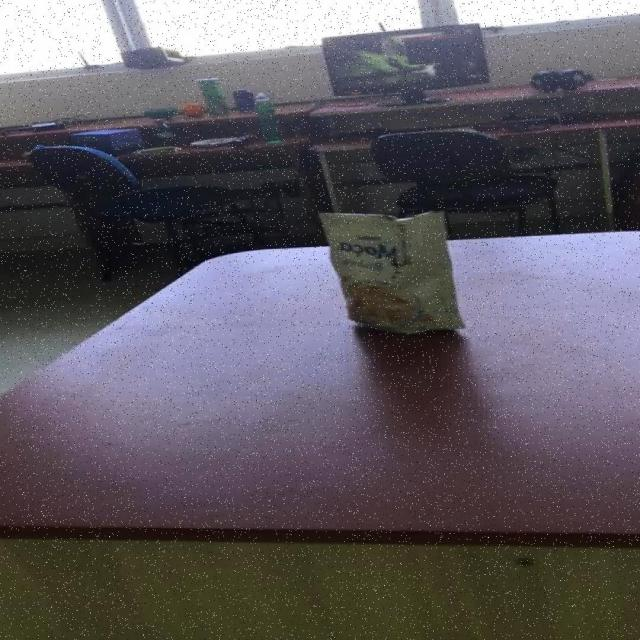CornFlakes: (319, 208, 467, 334)
